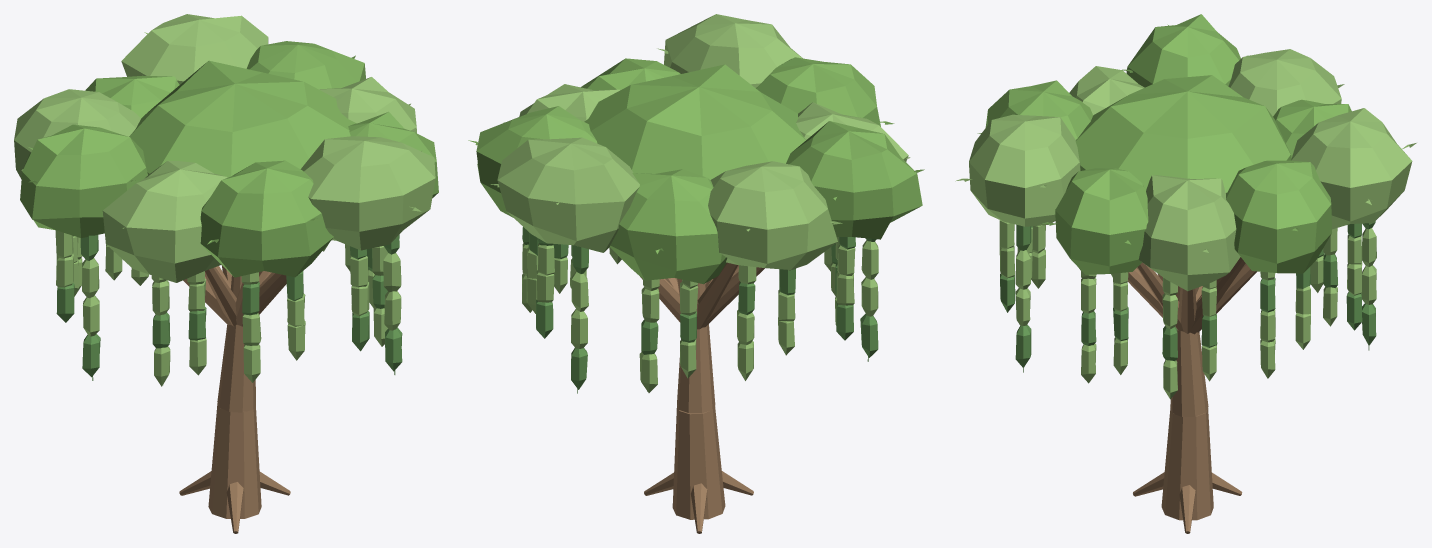
The model's file is Tree_Willow.fbx.
3 renders of one model, left to right at view 1: azimuth 30°, elevation 25°; view 2: azimuth 150°, elevation 25°; view 3: azimuth 270°, elevation 25°, orthographic.
Visible parts, largest first — view 1: Tree_Willow; view 2: Tree_Willow; view 3: Tree_Willow.
Boxes of the visible parts, x1,y1,x2,y2 form: Tree_Willow: (14,14,438,533); Tree_Willow: (468,14,924,533); Tree_Willow: (955,14,1416,533).
Bounding box in the file's own units: 433 × 435 × 436.
